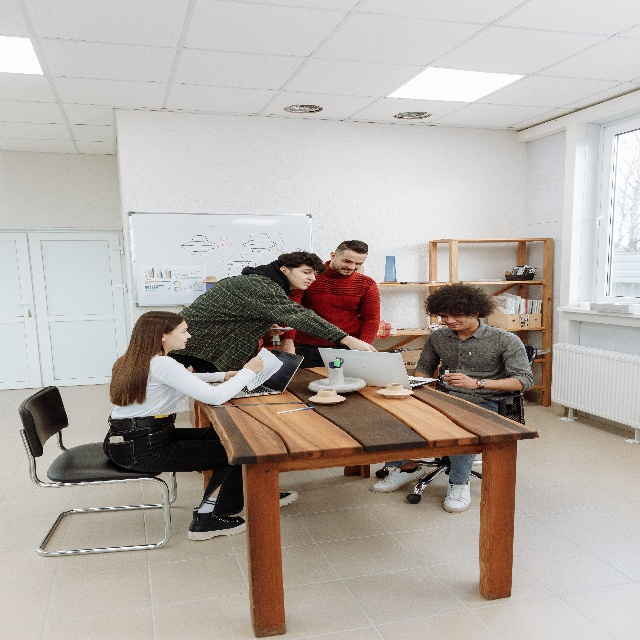Sin_guantes: (441, 371, 474, 390), (345, 336, 378, 355), (242, 356, 263, 374)
